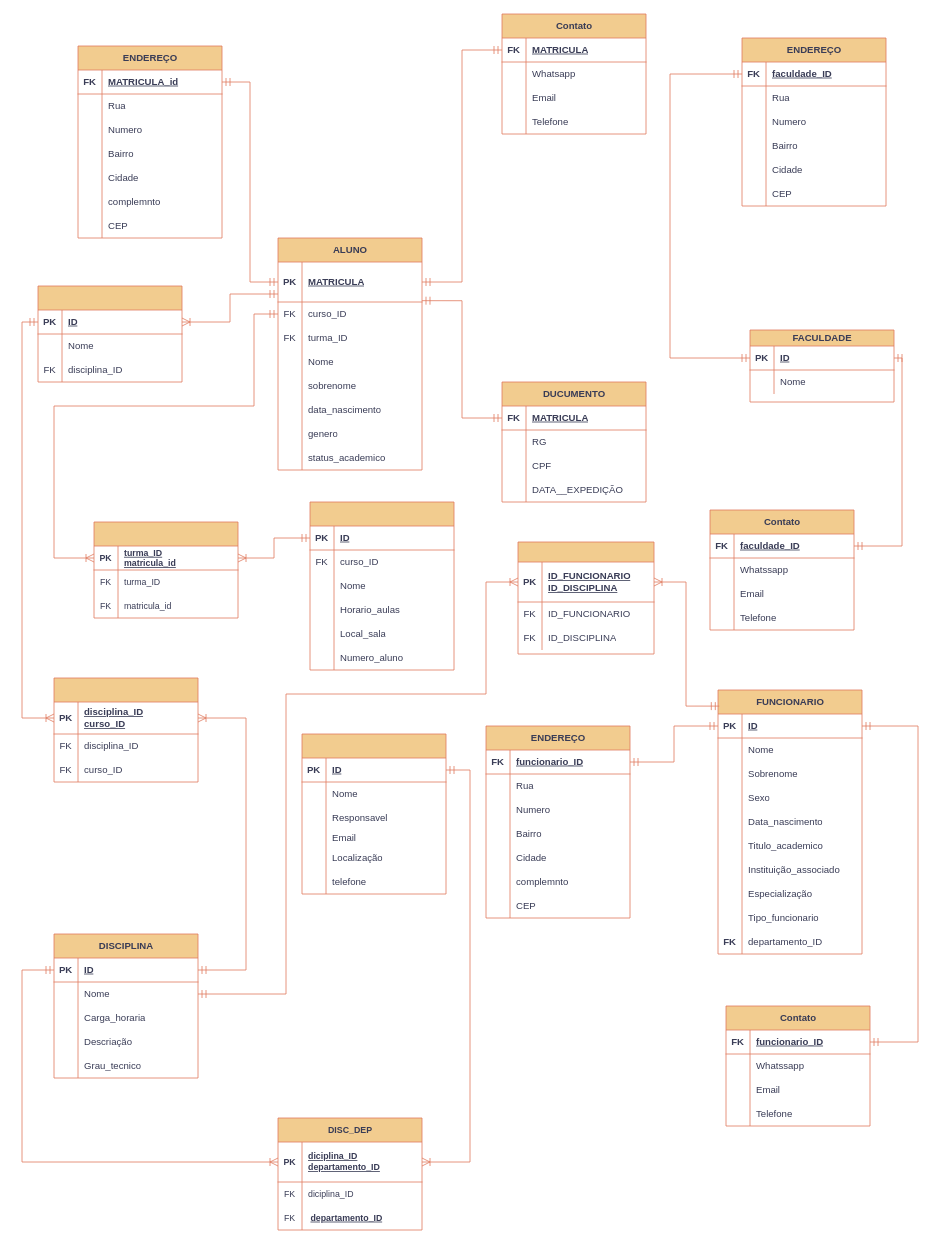
Image size: 941x1244. Some labels were removed from this diagram. Here are the shapes that lost their labels. From the top down, the box of each, then its label:
(37, 285, 182, 382): CURSO
(93, 521, 238, 618): ALUNO_TURMA
(309, 501, 454, 670): TURMA
(517, 541, 654, 654): FUNC_DISC
(53, 677, 198, 782): DISC_CURSO
(301, 733, 446, 894): DEPARTAMENTO
